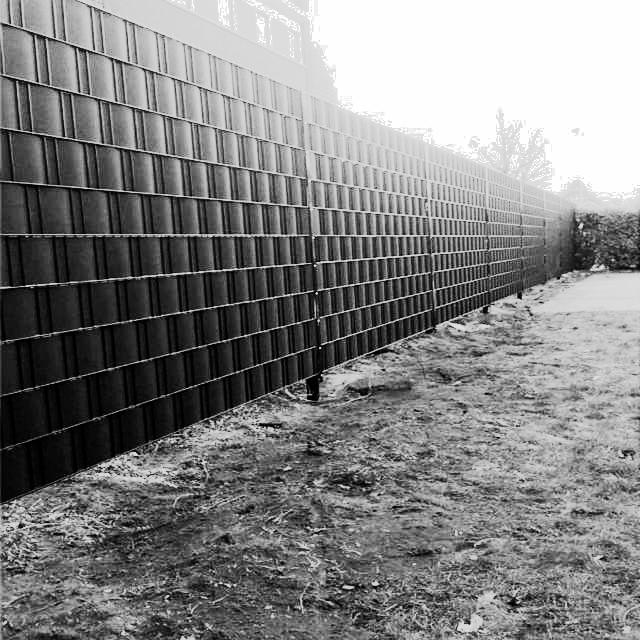fences: (0, 45, 308, 407), (310, 155, 592, 303)
